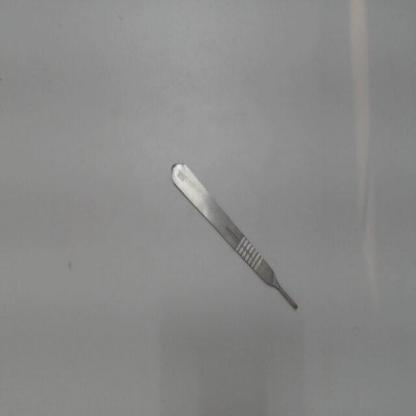No.3 BP Handle: (160, 143, 312, 327)
